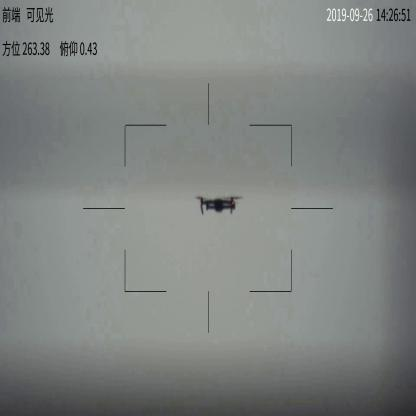uav: (195, 193, 245, 215)
